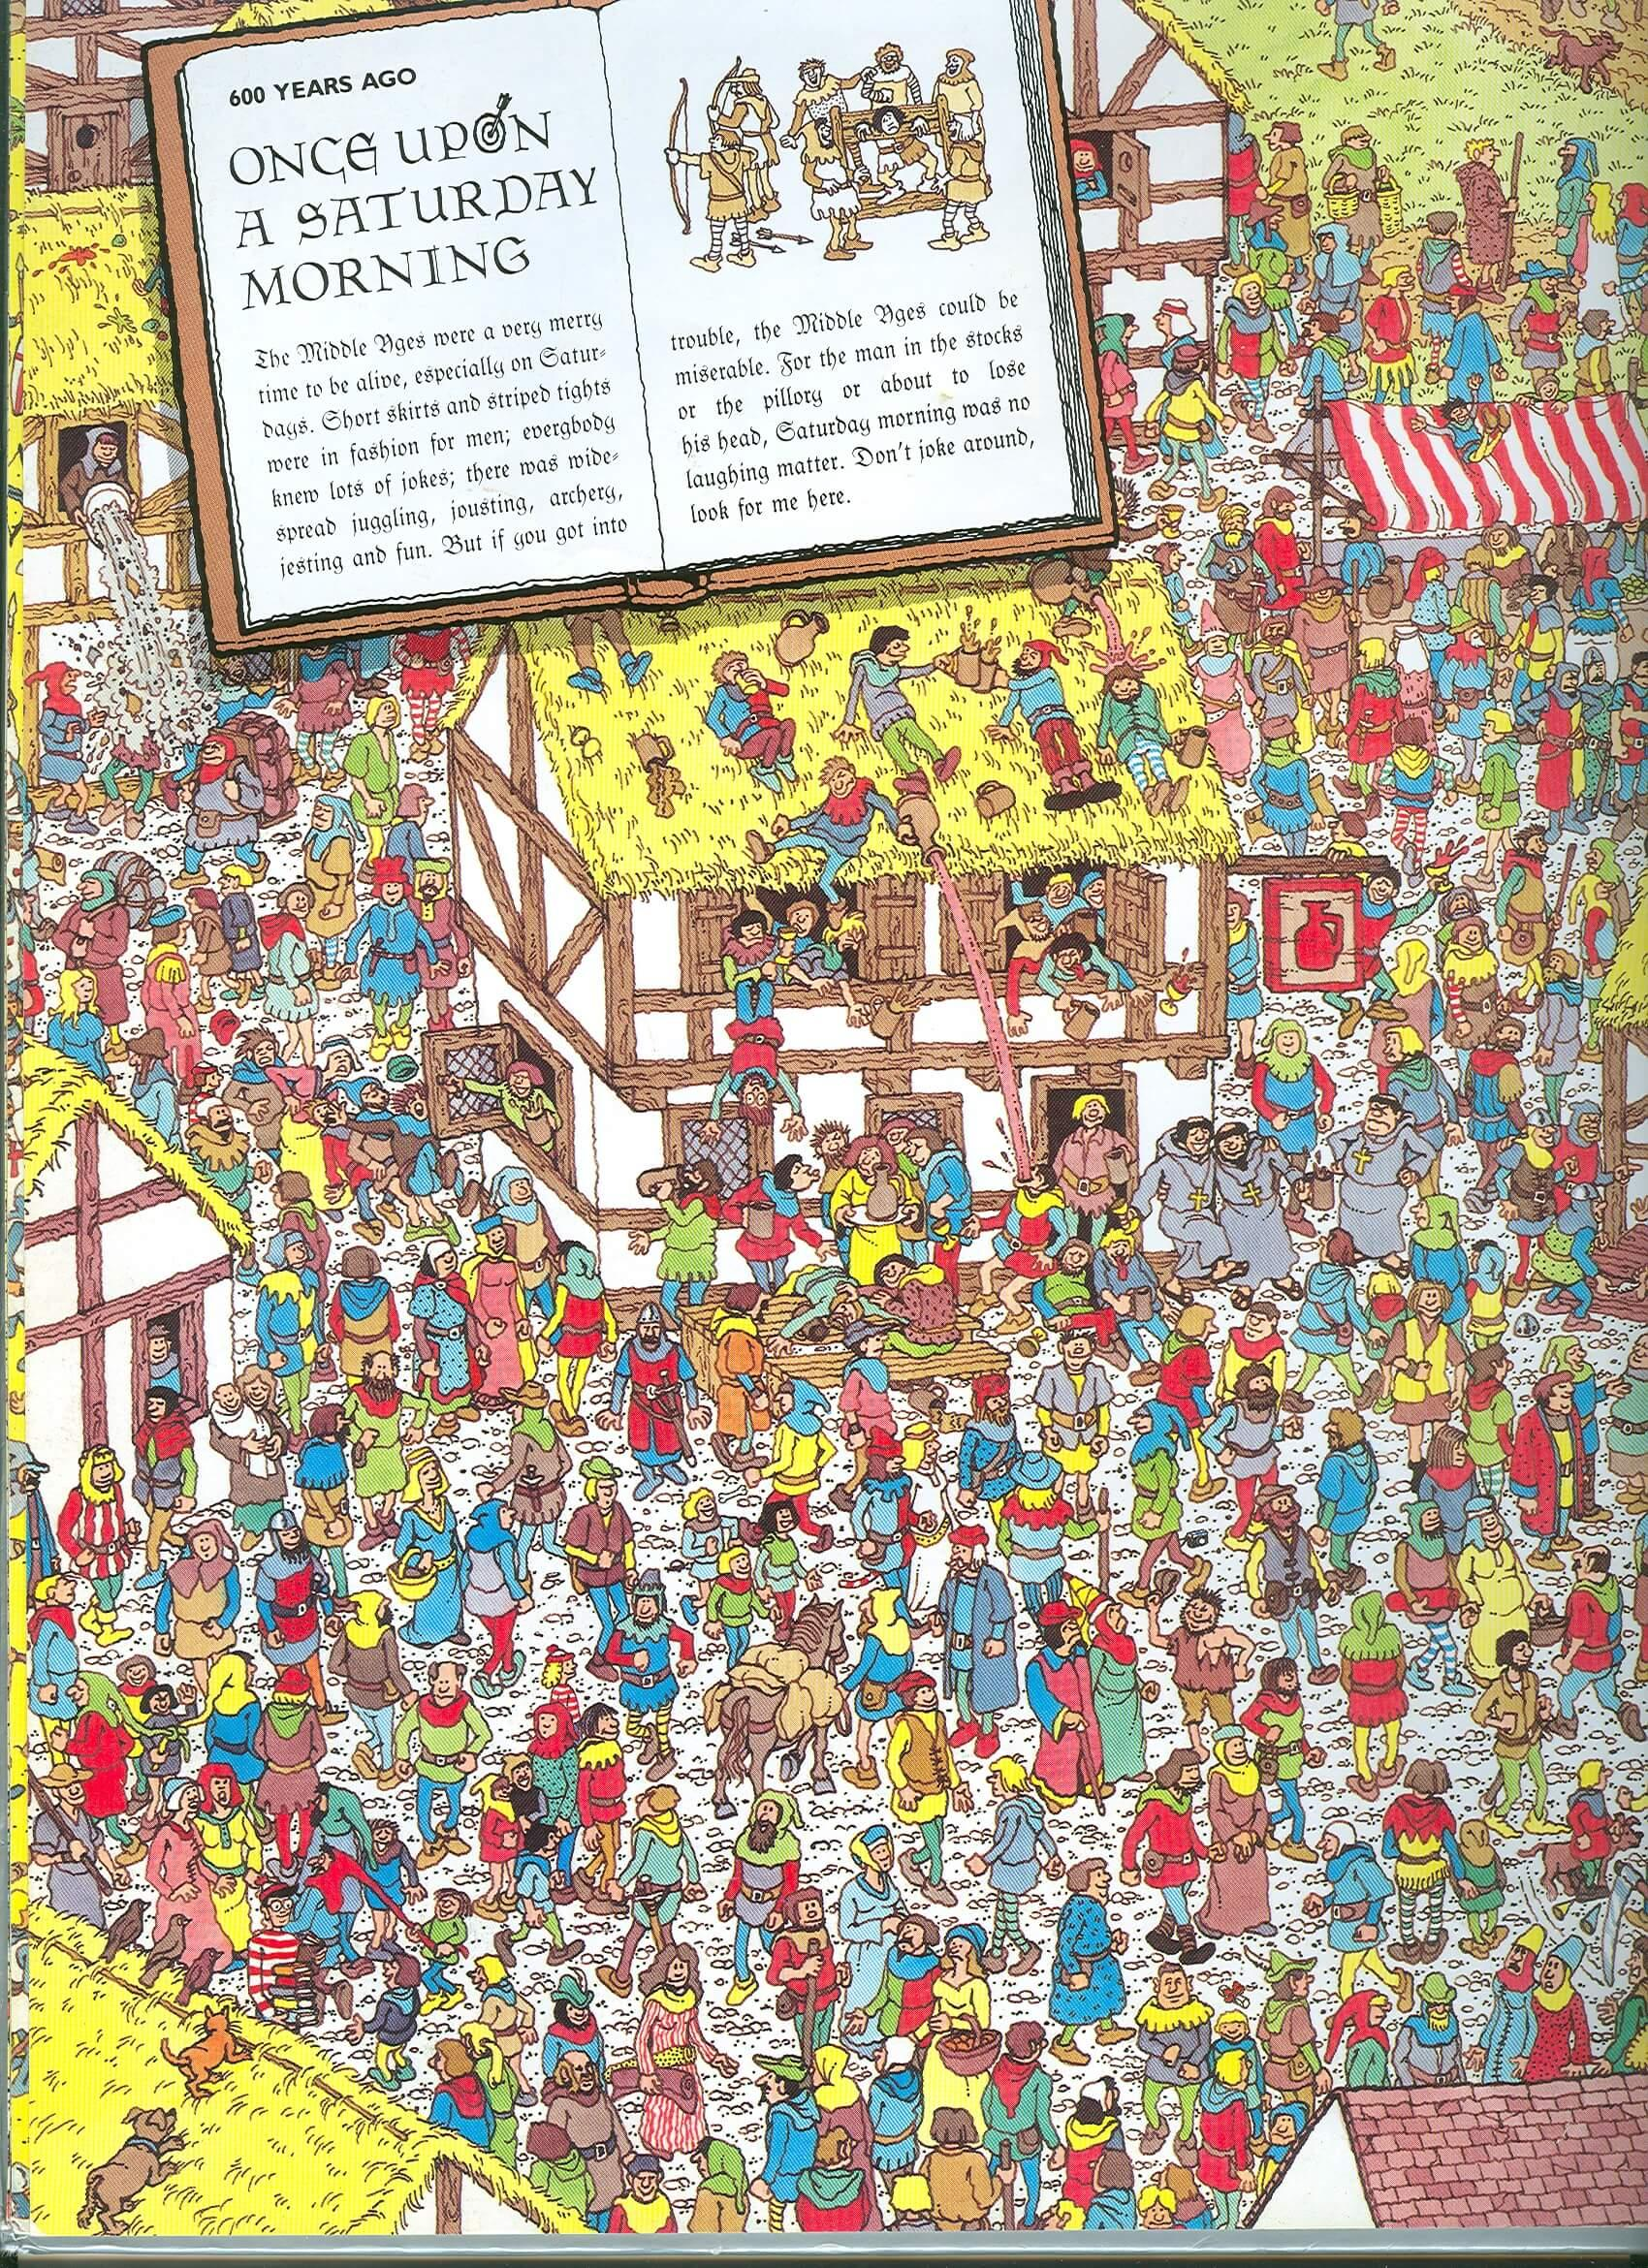waldos: (245, 1870, 331, 2034)
